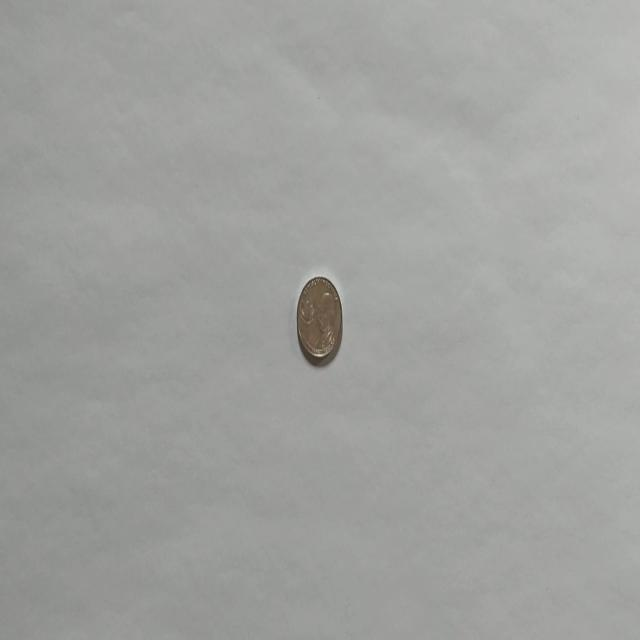lima ratus rupiah: (295, 274, 343, 366)
